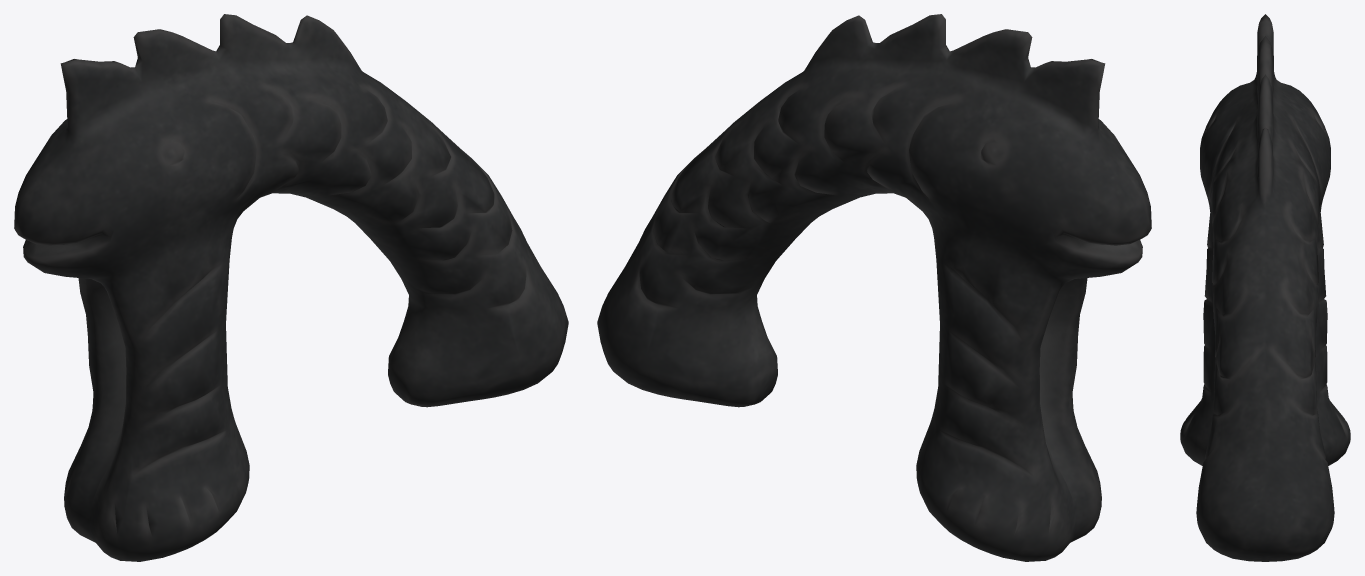
Rendered from SM_RoofOrnament02G.fbx.
3 renders of one model, left to right at view 1: azimuth 30°, elevation 25°; view 2: azimuth 150°, elevation 25°; view 3: azimuth 270°, elevation 25°, orthographic. The views are drawn at different scales.
Visible parts, largest first — view 1: SM_RoofOrnament02G; view 2: SM_RoofOrnament02G; view 3: SM_RoofOrnament02G.
Part boxes in pixels (bbox=[...]): SM_RoofOrnament02G: bbox=[14, 14, 568, 561]; SM_RoofOrnament02G: bbox=[597, 14, 1151, 561]; SM_RoofOrnament02G: bbox=[1180, 14, 1350, 561].
Size of the model in its own units: 37.91 by 12.14 by 34.19.
1 material, 1 textured.
